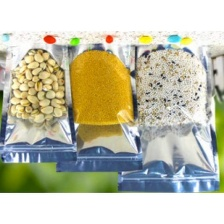snack: (113, 40, 224, 192), (51, 39, 147, 176), (0, 37, 81, 168)
